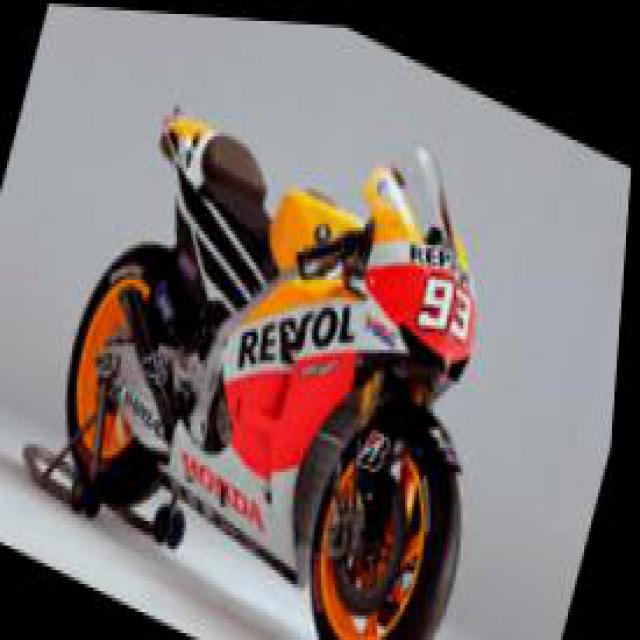HRC RCV 213: (26, 4, 566, 636)
